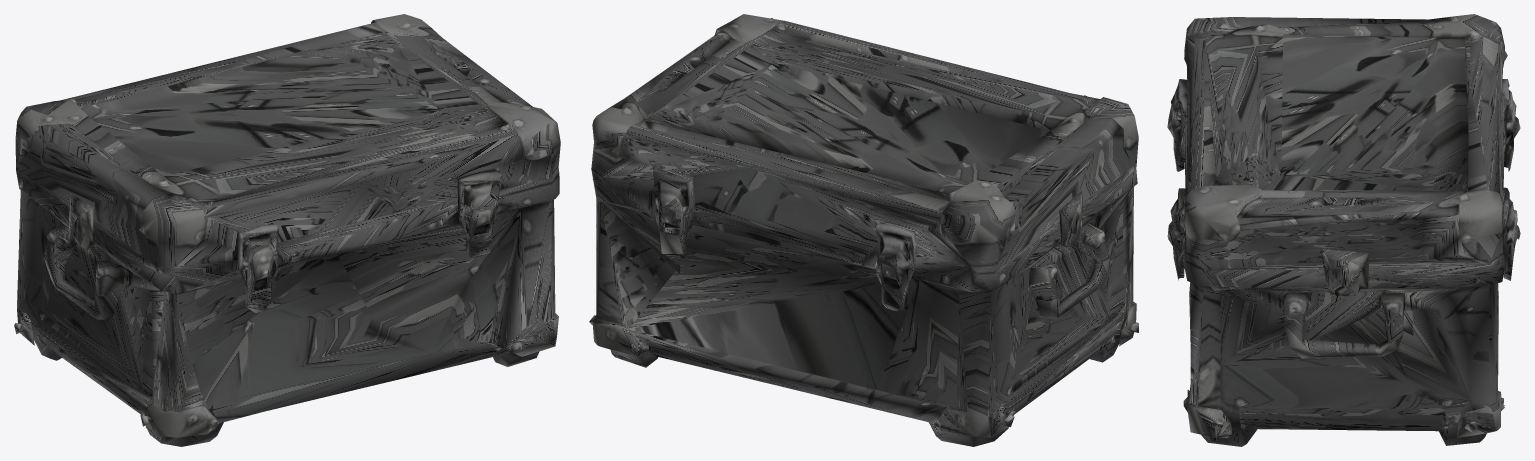
The model's file is metal_case.glb.
3 renders of one model, left to right at view 1: azimuth 30°, elevation 25°; view 2: azimuth 150°, elevation 25°; view 3: azimuth 270°, elevation 25°, orthographic.
Parts seen in each view (by area): view 1: tripo_node_04228b5b-72e1-421e-b21e-c1010a80df40; view 2: tripo_node_04228b5b-72e1-421e-b21e-c1010a80df40; view 3: tripo_node_04228b5b-72e1-421e-b21e-c1010a80df40.
Boxes of the visible parts, x1,y1,x2,y2 form: tripo_node_04228b5b-72e1-421e-b21e-c1010a80df40: (14,14,560,446); tripo_node_04228b5b-72e1-421e-b21e-c1010a80df40: (589,14,1138,446); tripo_node_04228b5b-72e1-421e-b21e-c1010a80df40: (1167,14,1520,446).
Bounding box in the file's own units: 0.9986 × 0.5429 × 0.7015.
1 material, 1 textured.
